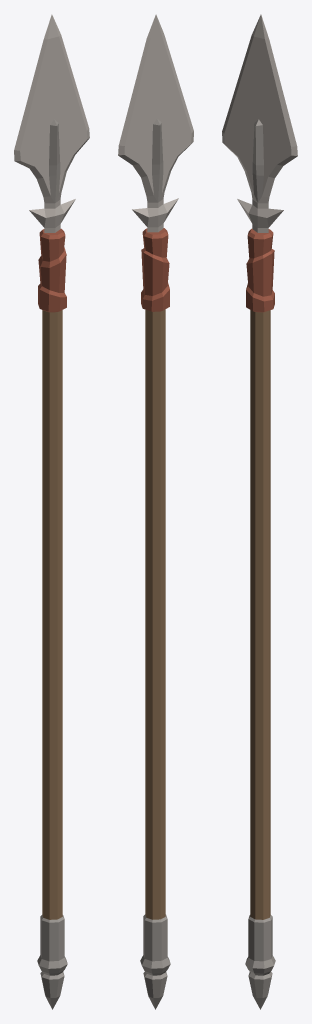
The model's file is SM_pwe_rome_spear_02.fbx.
3 views of the same model, side by side, from view 1: azimuth 30°, elevation 25°; view 2: azimuth 210°, elevation 25°; view 3: azimuth 330°, elevation 25° (orthographic).
Parts seen in each view (by area): view 1: SM_pwe_rome_spear_02; view 2: SM_pwe_rome_spear_02; view 3: SM_pwe_rome_spear_02.
Part boxes in pixels (<box>): SM_pwe_rome_spear_02: <box>14,14,89,1009</box>; SM_pwe_rome_spear_02: <box>118,14,193,1009</box>; SM_pwe_rome_spear_02: <box>222,14,297,1009</box>.
Size of the model in its own units: 17.89 by 224 by 6.46.
